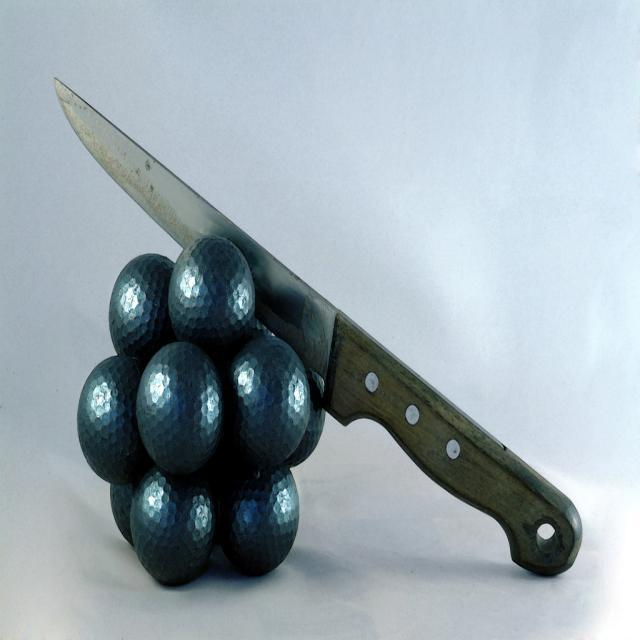Knife: (55, 81, 581, 575)
